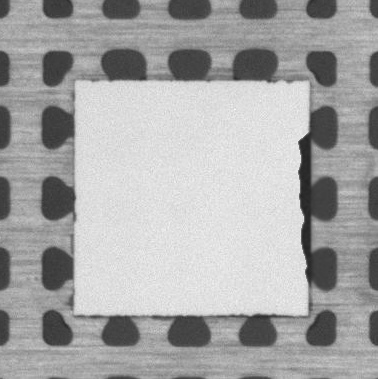DIE_BROKEN: (296, 134, 313, 289)
